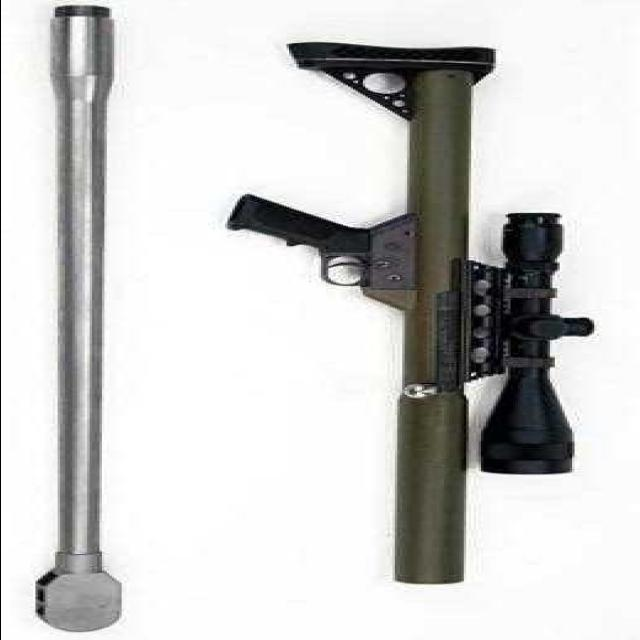heavyweapon: (210, 1, 604, 605)
